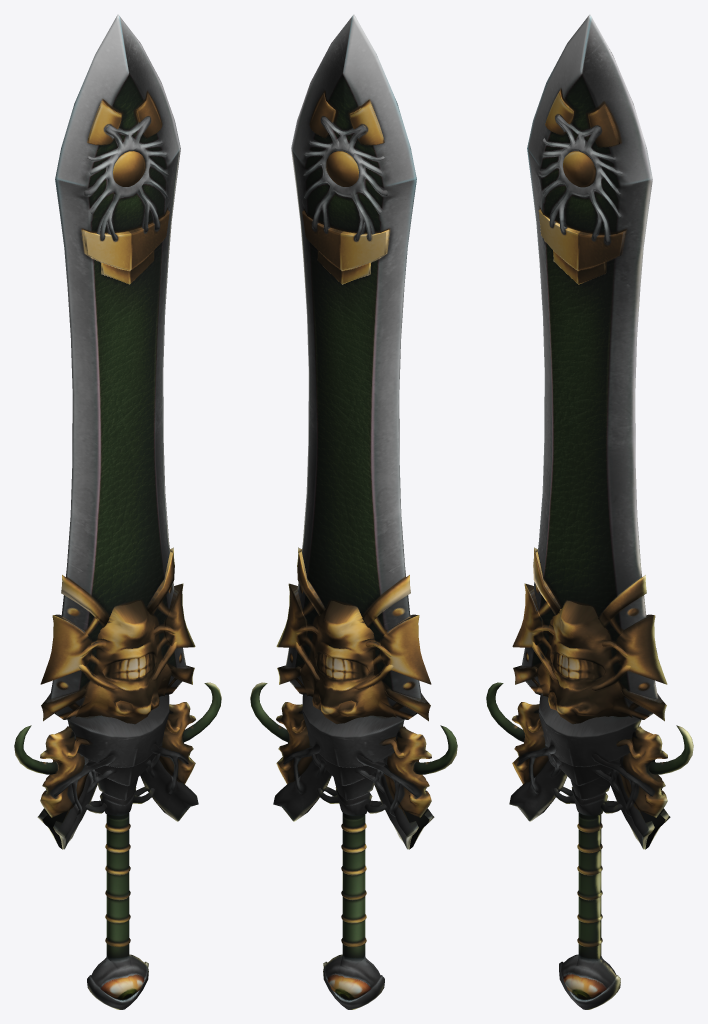
Rendered from sm_sword_48.gltf.
The picture shows the model from 3 angles, left to right: view 1: azimuth 30°, elevation 25°; view 2: azimuth 150°, elevation 25°; view 3: azimuth 330°, elevation 25°; orthographic projection.
Parts seen in each view (by area): view 1: SM_Sword_48; view 2: SM_Sword_48; view 3: SM_Sword_48.
Part boxes in pixels (x1,y1,x2,y2): SM_Sword_48: (14, 14, 221, 1009); SM_Sword_48: (250, 14, 457, 1009); SM_Sword_48: (486, 14, 693, 1009).
Size of the model in its own units: 0.3265 by 1.5 by 0.1619.
1 material, 1 textured.
